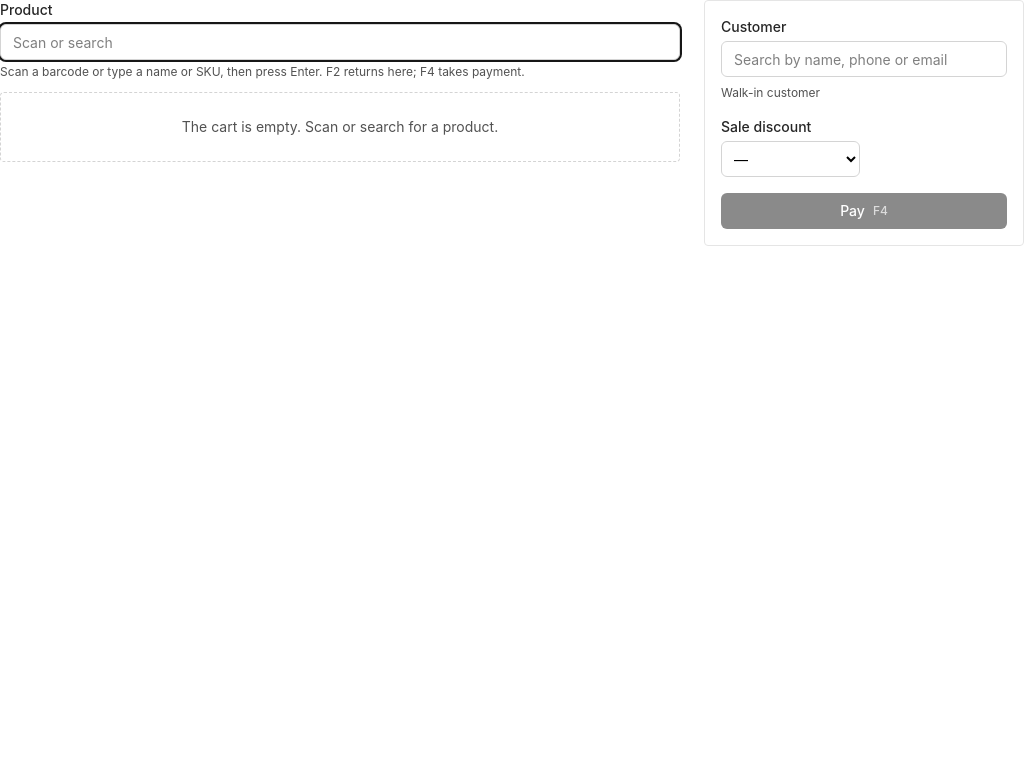
Test: PosScreen › takes a cash payment, shows the change, sends one idempotent checkout and opens the receipt
Type "CH-A" into the field labelled "Product" at coordinates (340, 42), box x1=0 y1=24 x2=680 y2=60
Then press Enter
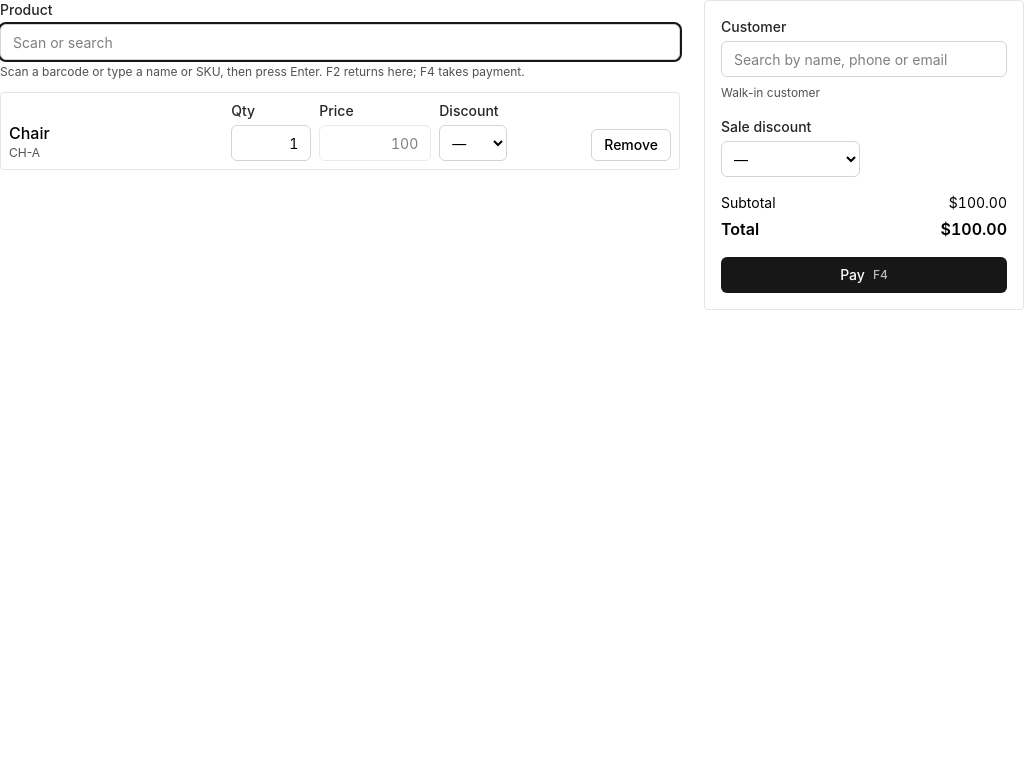
Expected: the text "Chair" is shown, x1=9 y1=123 x2=50 y2=143
Click the button "Pay F4" at coordinates (864, 275), box x1=721 y1=257 x2=1007 y2=293
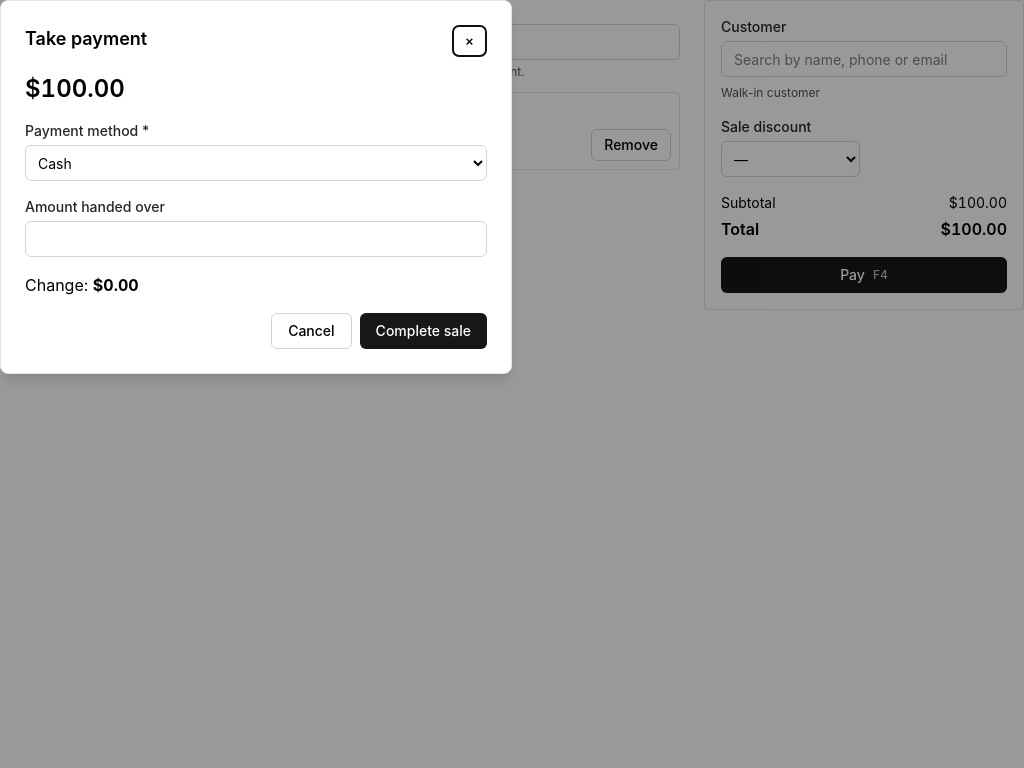
Select "Cash" in the dropdown labelled "Payment method *" at coordinates (256, 163), box x1=25 y1=145 x2=487 y2=181
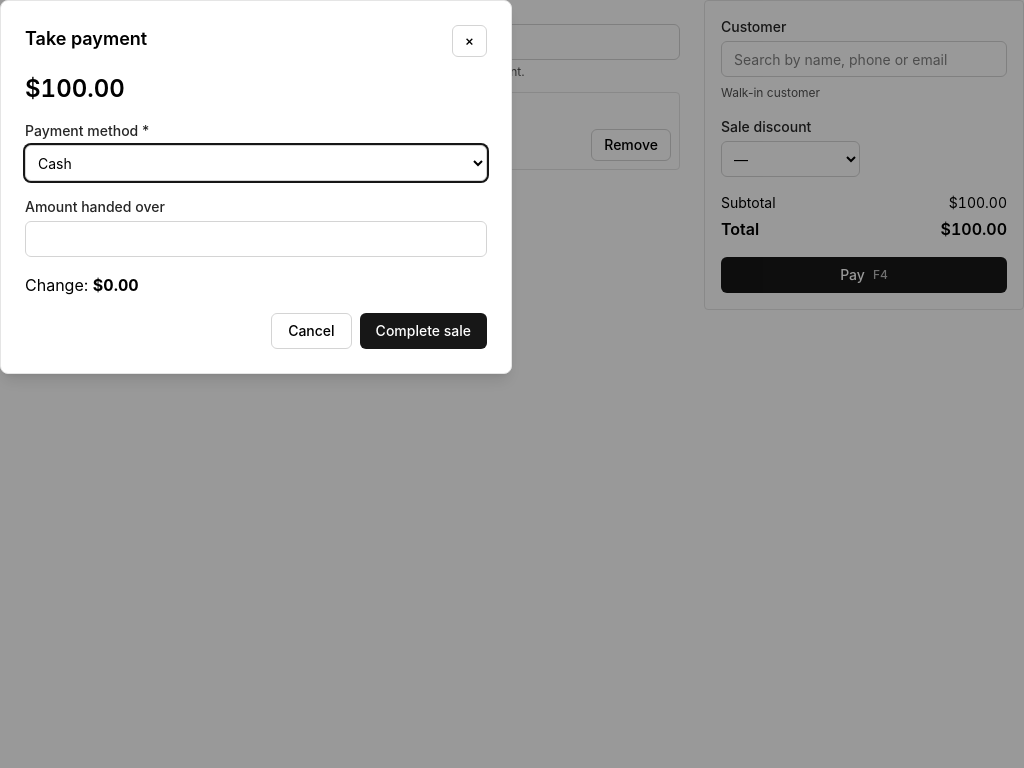
Type "500" into the field labelled "Amount handed over" at coordinates (256, 239), box x1=25 y1=221 x2=487 y2=257
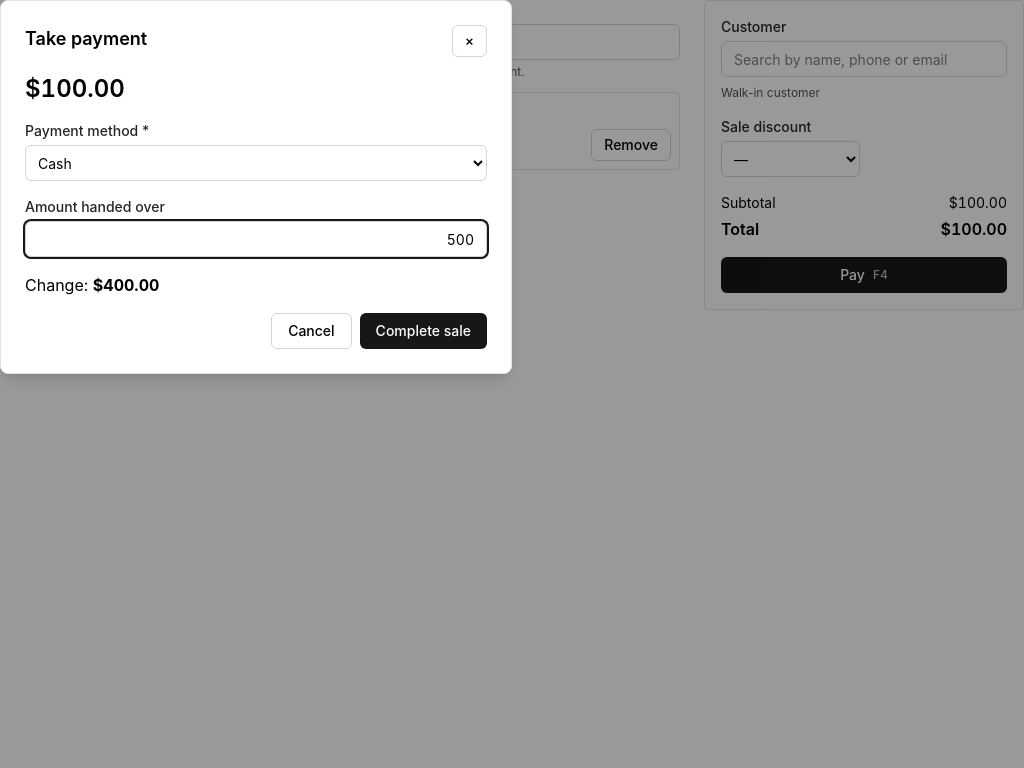
Expected: the text "Change: $400.00" is shown, x1=25 y1=275 x2=159 y2=295
Click the button "Complete sale" at coordinates (423, 331), box x1=360 y1=313 x2=487 y2=349
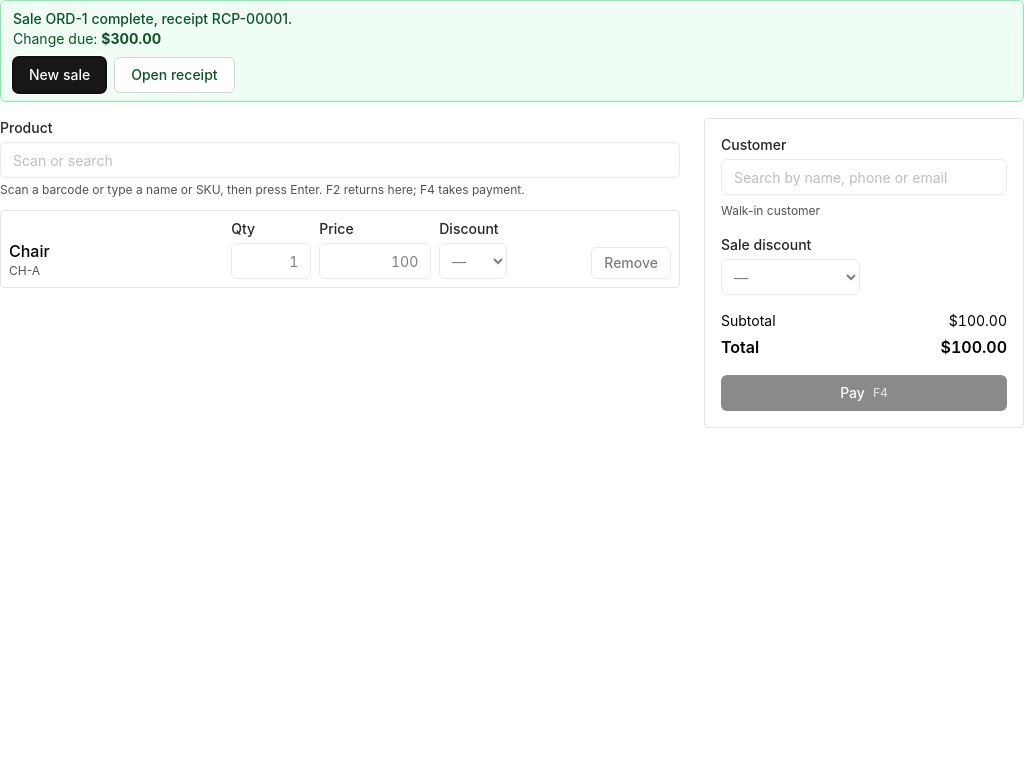
Expected: the text "Sale ORD-1 complete, receipt RCP-00001." is shown, x1=13 y1=10 x2=292 y2=27
Click the button "New sale" at coordinates (60, 75), box x1=13 y1=57 x2=106 y2=93
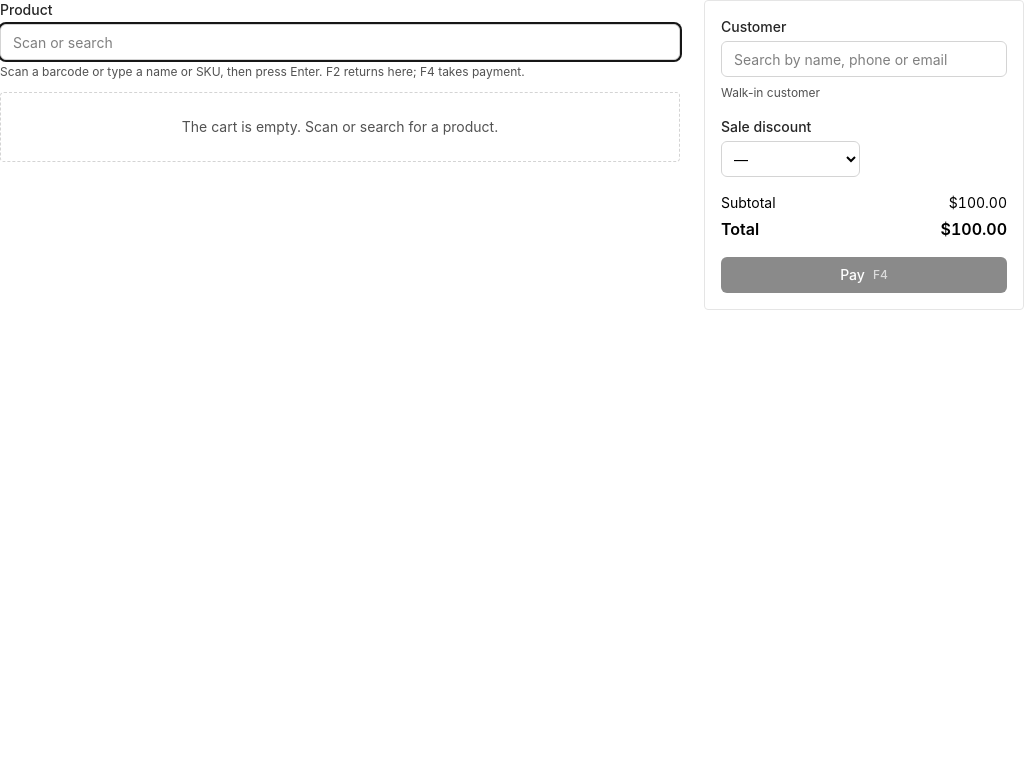
Expected: the text "The cart is empty. Scan or search for a product." is shown, x1=0 y1=92 x2=680 y2=162
